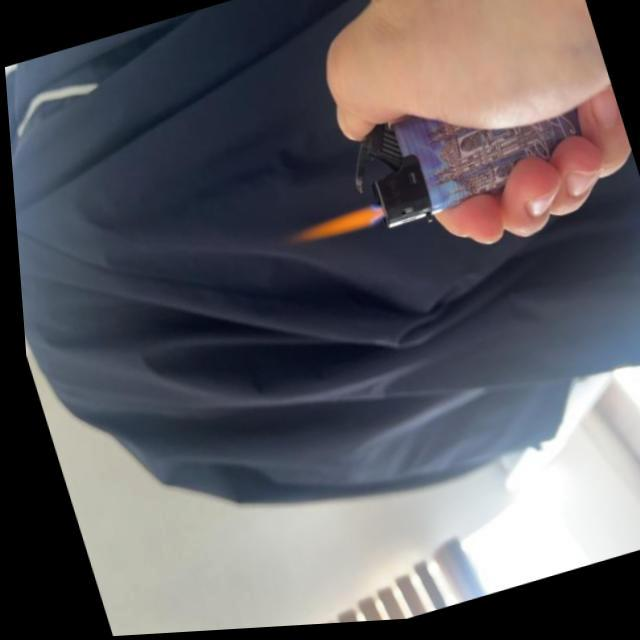fire: (284, 203, 380, 254)
